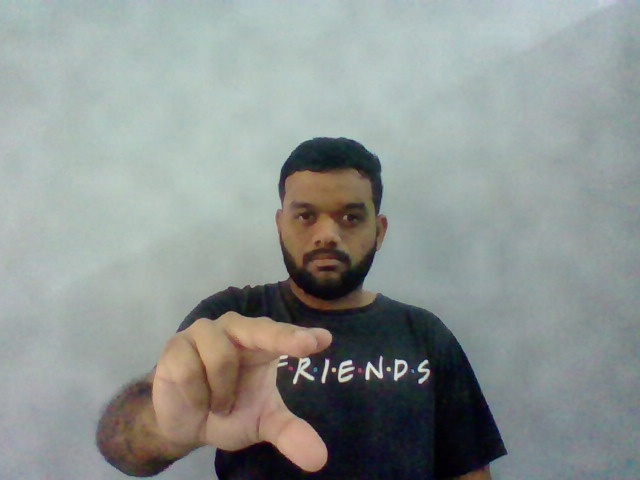No: (151, 310, 332, 473)
